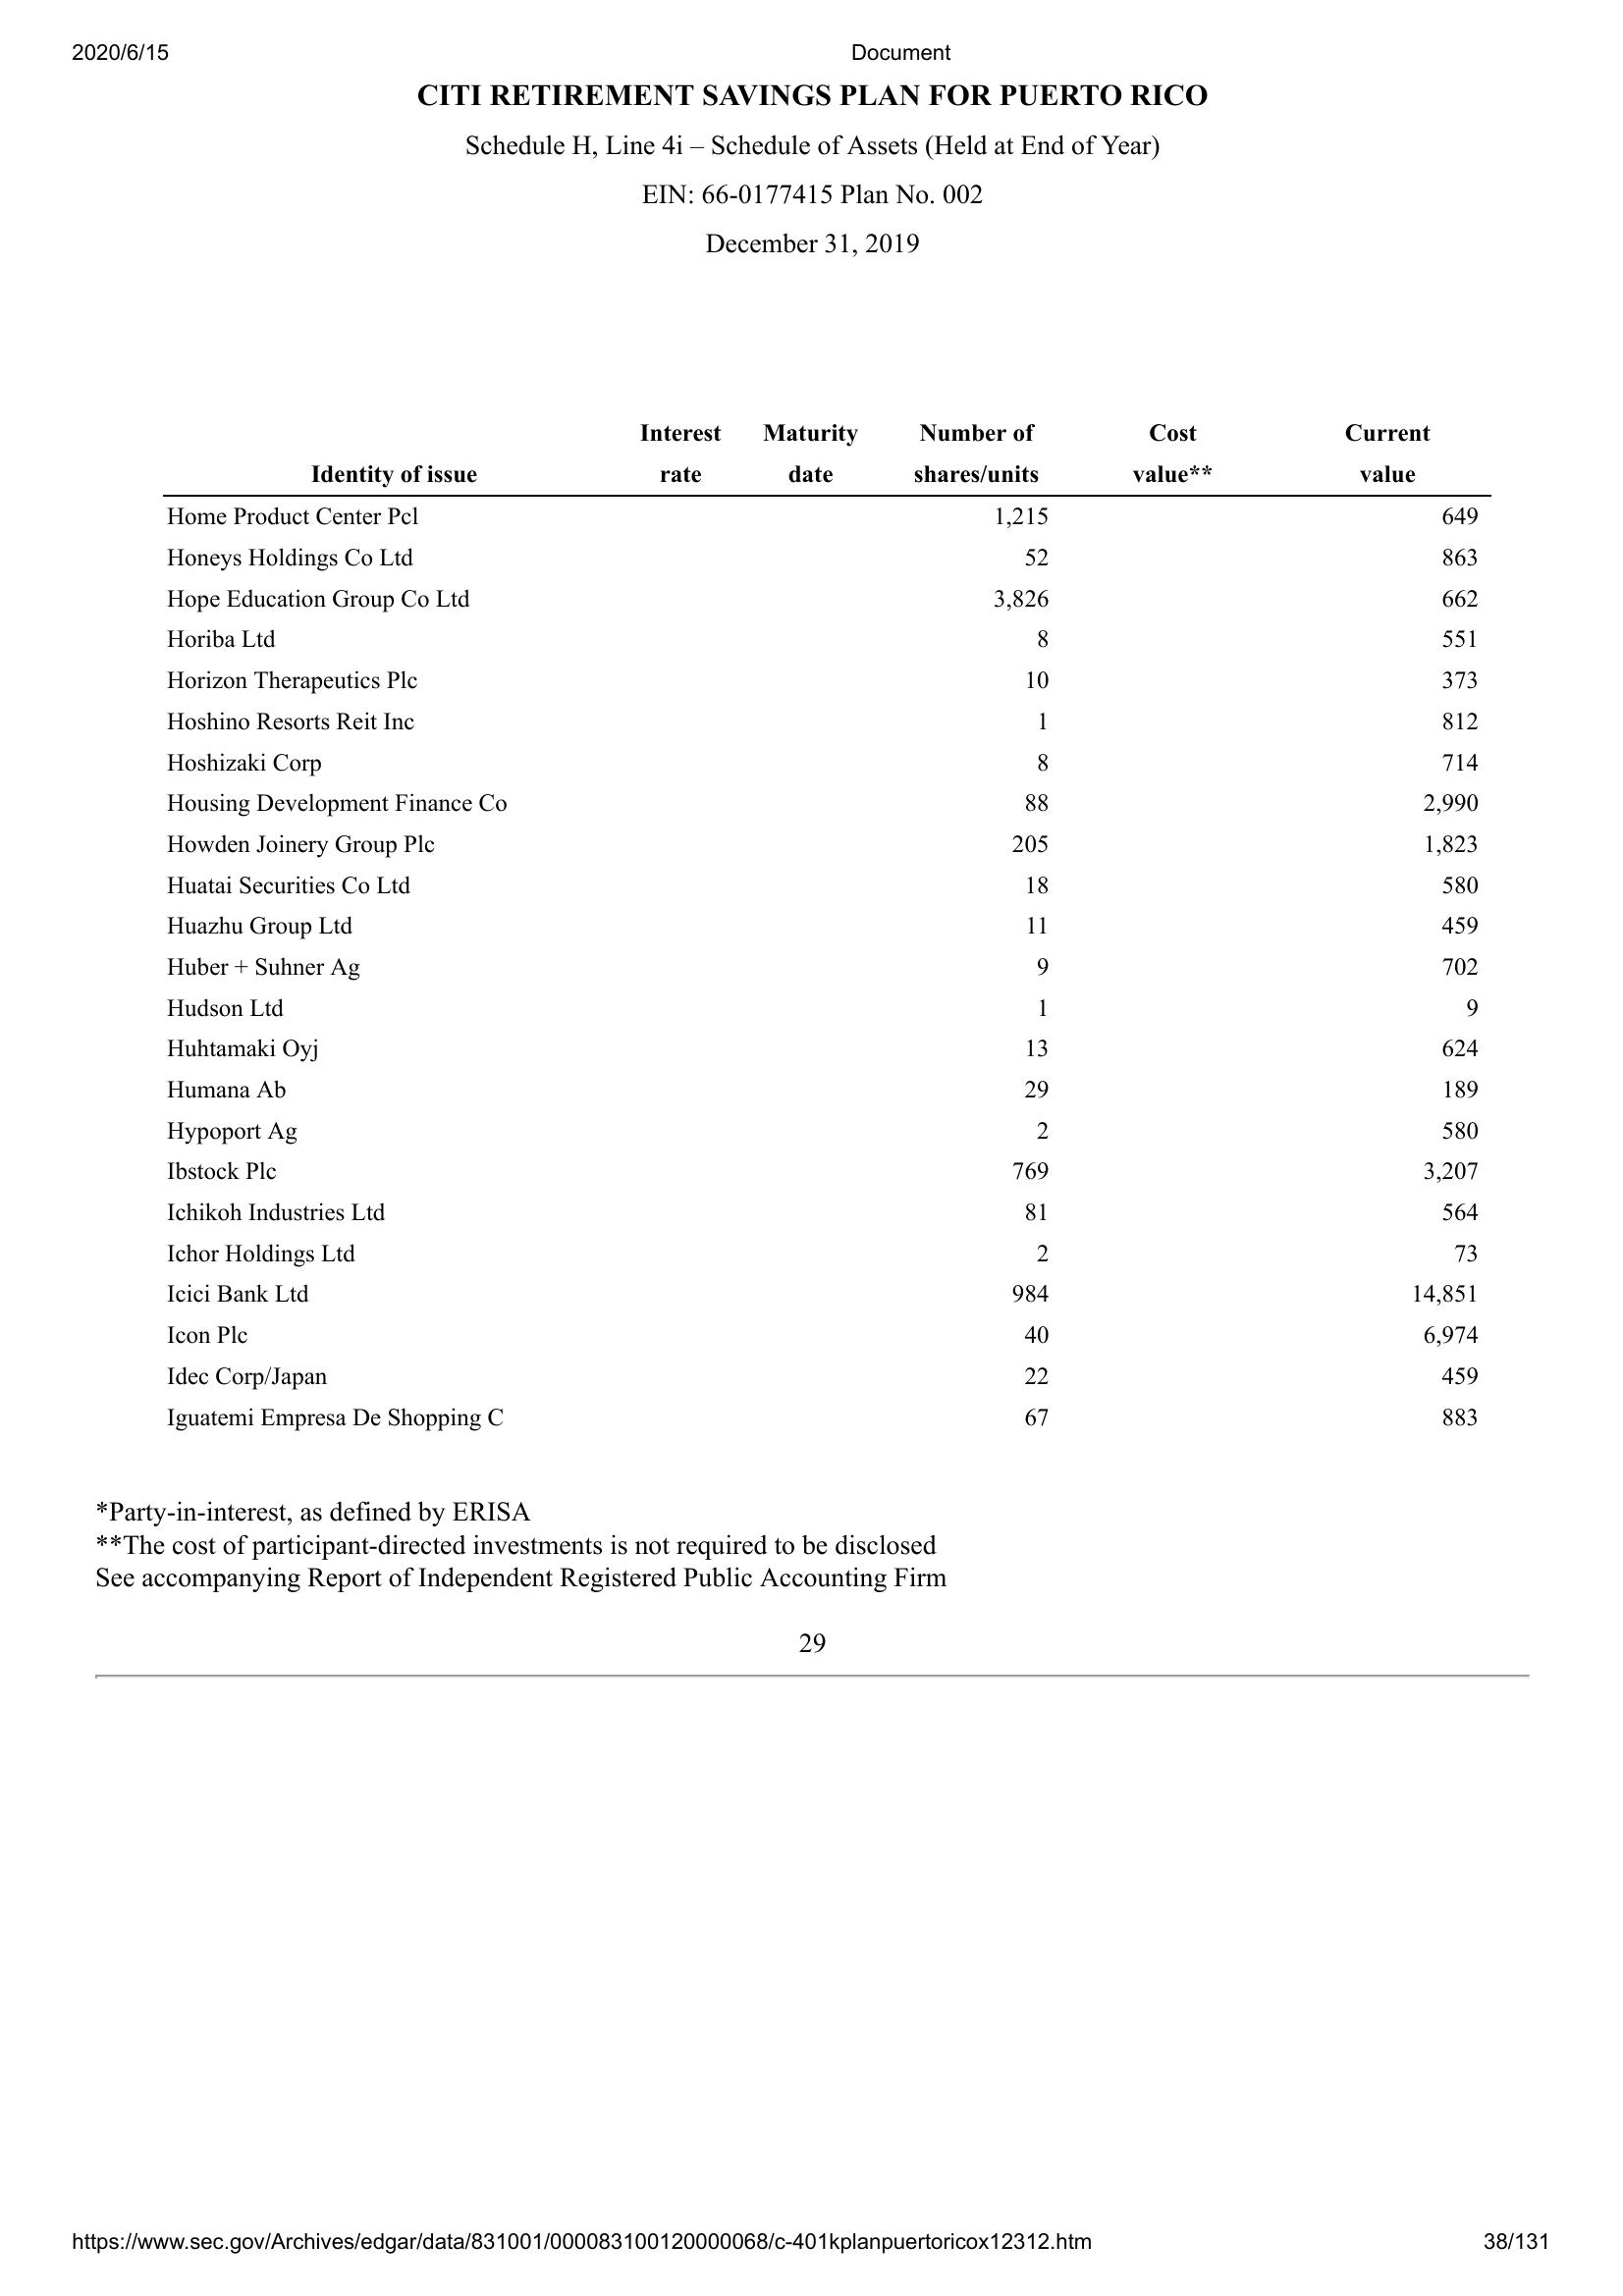table: (158, 425, 1511, 1427)
